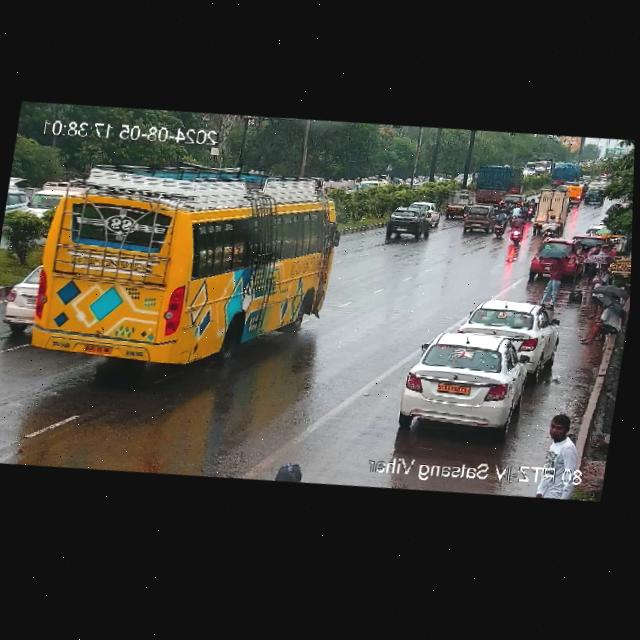bus: (16, 134, 352, 383)
car: (393, 323, 536, 441), (458, 292, 559, 372), (380, 206, 436, 245), (461, 201, 497, 232), (562, 184, 583, 203)
motorcycle: (489, 205, 510, 239), (508, 212, 526, 244), (540, 213, 562, 239)
person: (529, 413, 590, 503), (538, 256, 570, 307), (589, 240, 617, 283)
truck: (465, 162, 522, 203), (530, 193, 570, 232), (548, 158, 582, 189)
